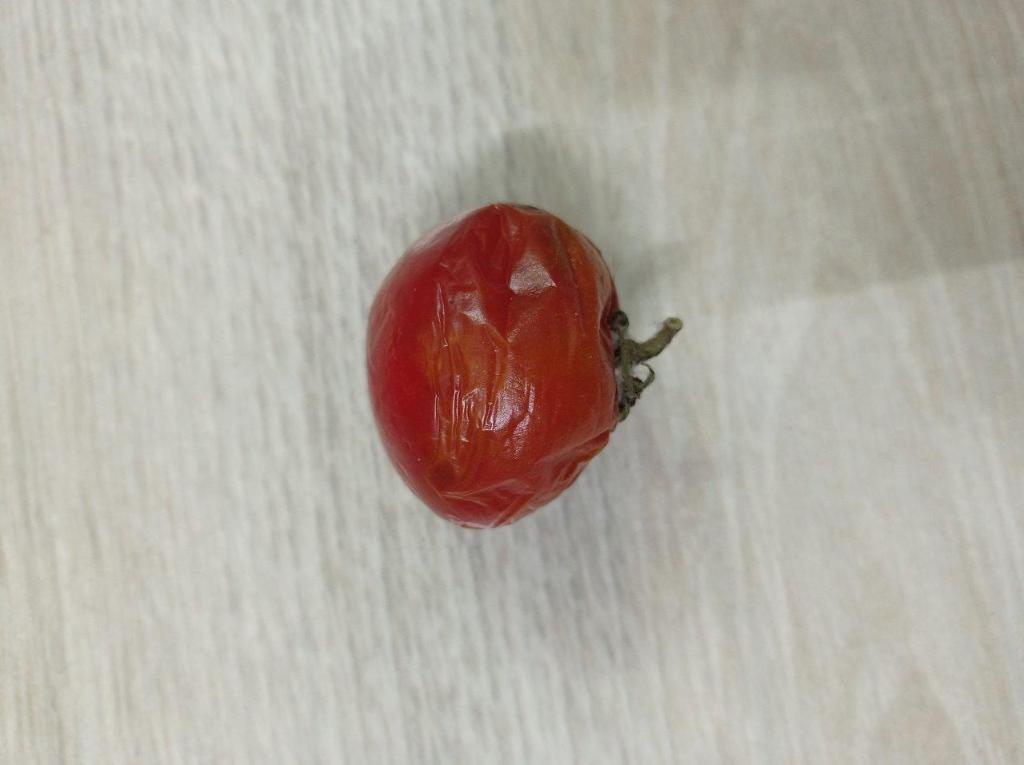bruise_discoloration: (425, 286, 516, 477)
tomato: (366, 204, 680, 527)
